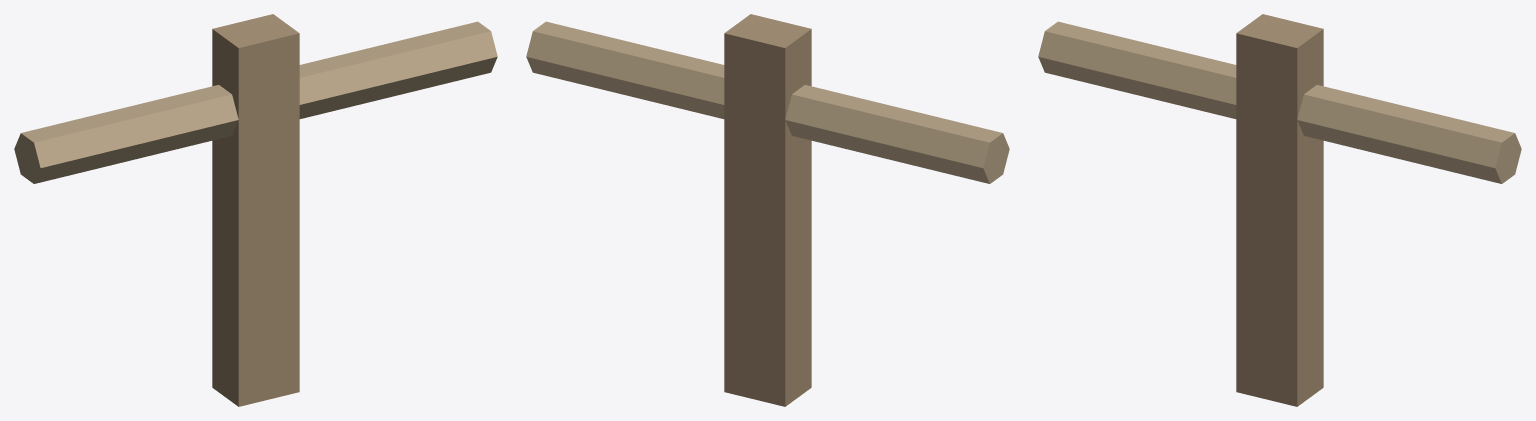
The model's file is crossbow.glb.
3 renders of one model, left to right at view 1: azimuth 30°, elevation 25°; view 2: azimuth 150°, elevation 25°; view 3: azimuth 330°, elevation 25°, orthographic.
Visible parts, largest first — view 1: crossbow; view 2: crossbow; view 3: crossbow.
Part boxes in pixels (x1,y1,x2,y2): crossbow: [14, 14, 497, 406]; crossbow: [526, 14, 1009, 406]; crossbow: [1038, 14, 1521, 406].
Size of the model in its own units: 0.6 by 0.45 by 0.06.
